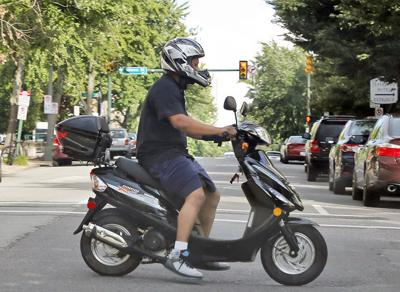helmet: (79, 36, 329, 287)
